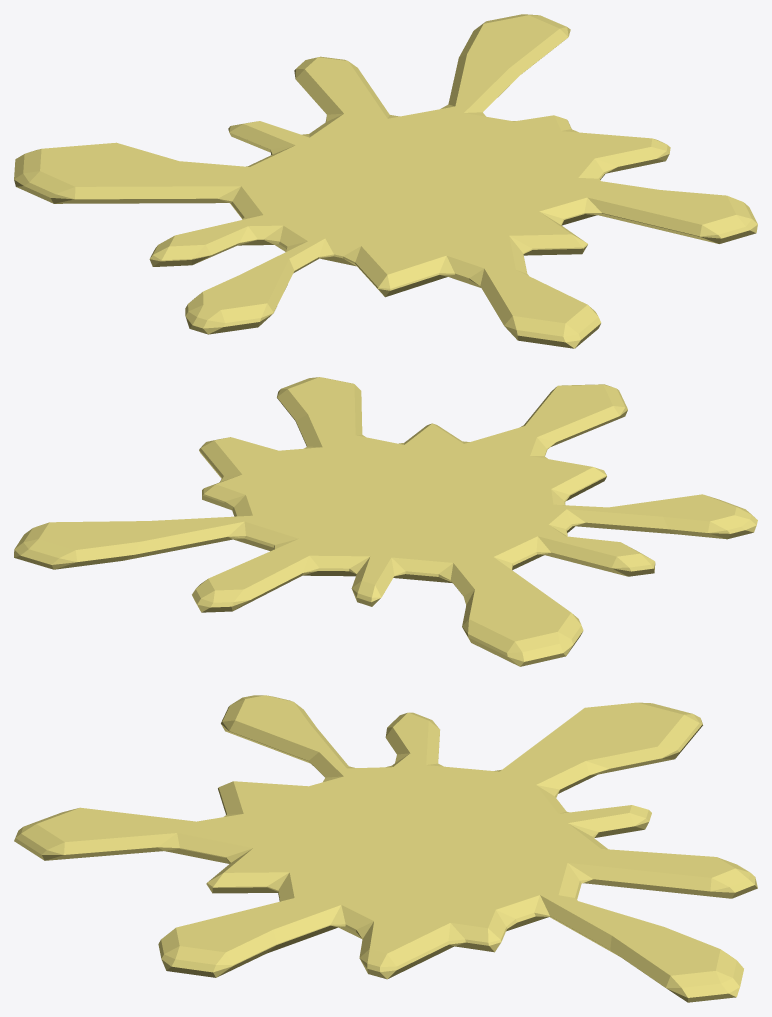
Rendered from mayonazee.fbx.
The picture shows the model from 3 angles, top to bottom: view 1: azimuth 30°, elevation 25°; view 2: azimuth 150°, elevation 25°; view 3: azimuth 270°, elevation 25°; orthographic projection. The views are drawn at different scales.
Visible parts, largest first — view 1: Circle.029; view 2: Circle.029; view 3: Circle.029.
Part boxes in pixels (x1=…): Circle.029: x1=14, y1=14, x2=757, y2=348; Circle.029: x1=14, y1=377, x2=757, y2=666; Circle.029: x1=14, y1=695, x2=757, y2=1002.
Size of the model in its own units: 22.85 by 0.6404 by 24.
